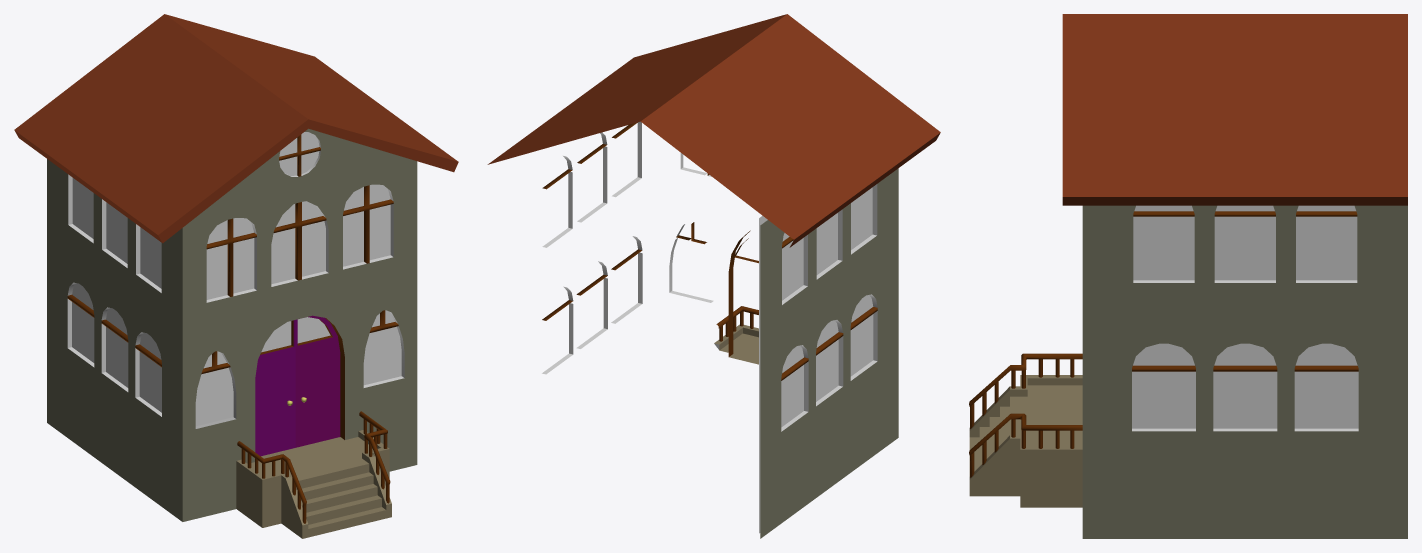
The model's file is House.glb.
The picture shows the model from 3 angles, left to right: view 1: azimuth 30°, elevation 25°; view 2: azimuth 150°, elevation 25°; view 3: azimuth 270°, elevation 25°; orthographic projection. The views are drawn at different scales.
Parts seen in each view (by area): view 1: House, HouseLight; view 2: House, HouseLight; view 3: House, HouseLight.
Part boxes in pixels (x1,y1,x2,y2): House: [14, 14, 458, 538]; HouseLight: [72, 132, 401, 426]; House: [487, 14, 940, 538]; HouseLight: [759, 187, 873, 533]; House: [969, 14, 1407, 538]; HouseLight: [1132, 205, 1358, 428].
Bounding box in the file's own units: 5.12 × 6.19 × 5.4.
